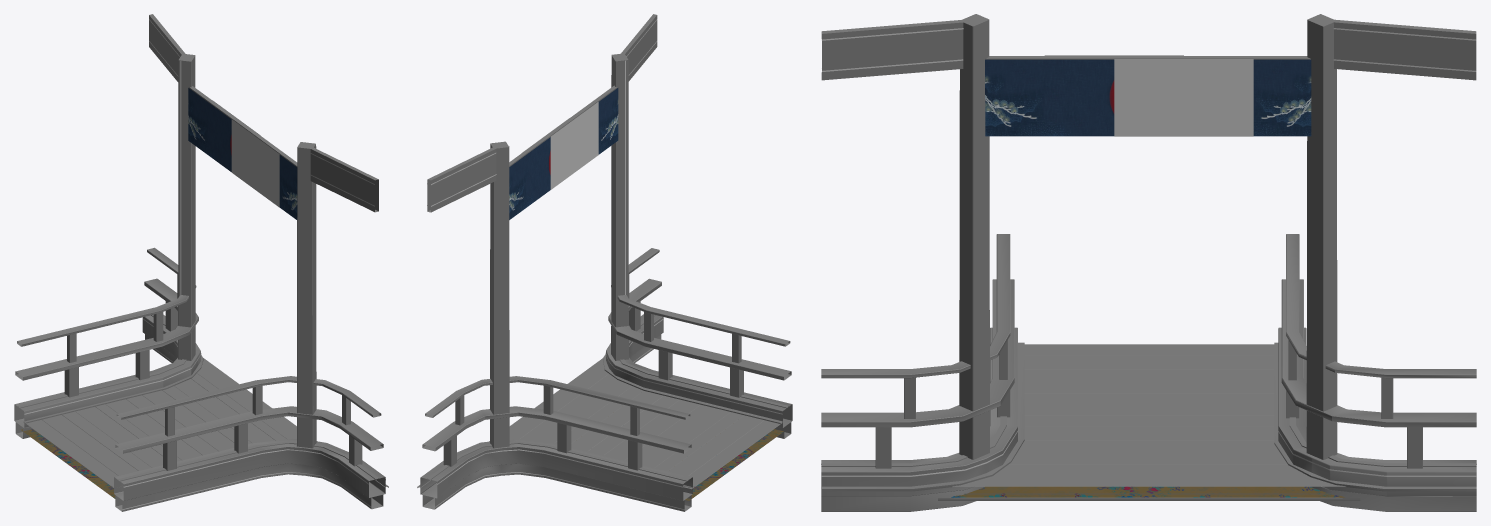
Rendered from FL4_Bridge_Start.fbx.
3 views of the same model, side by side, from view 1: azimuth 30°, elevation 25°; view 2: azimuth 150°, elevation 25°; view 3: azimuth 270°, elevation 25° (orthographic). The views are drawn at different scales.
Visible parts, largest first — view 1: FL4_Bridge_Start; view 2: FL4_Bridge_Start; view 3: FL4_Bridge_Start.
Boxes of the visible parts, bbox=[...] form: FL4_Bridge_Start: bbox=[14, 14, 388, 511]; FL4_Bridge_Start: bbox=[417, 14, 792, 511]; FL4_Bridge_Start: bbox=[821, 14, 1476, 511].
Size of the model in its own units: 265 by 401 by 501.
